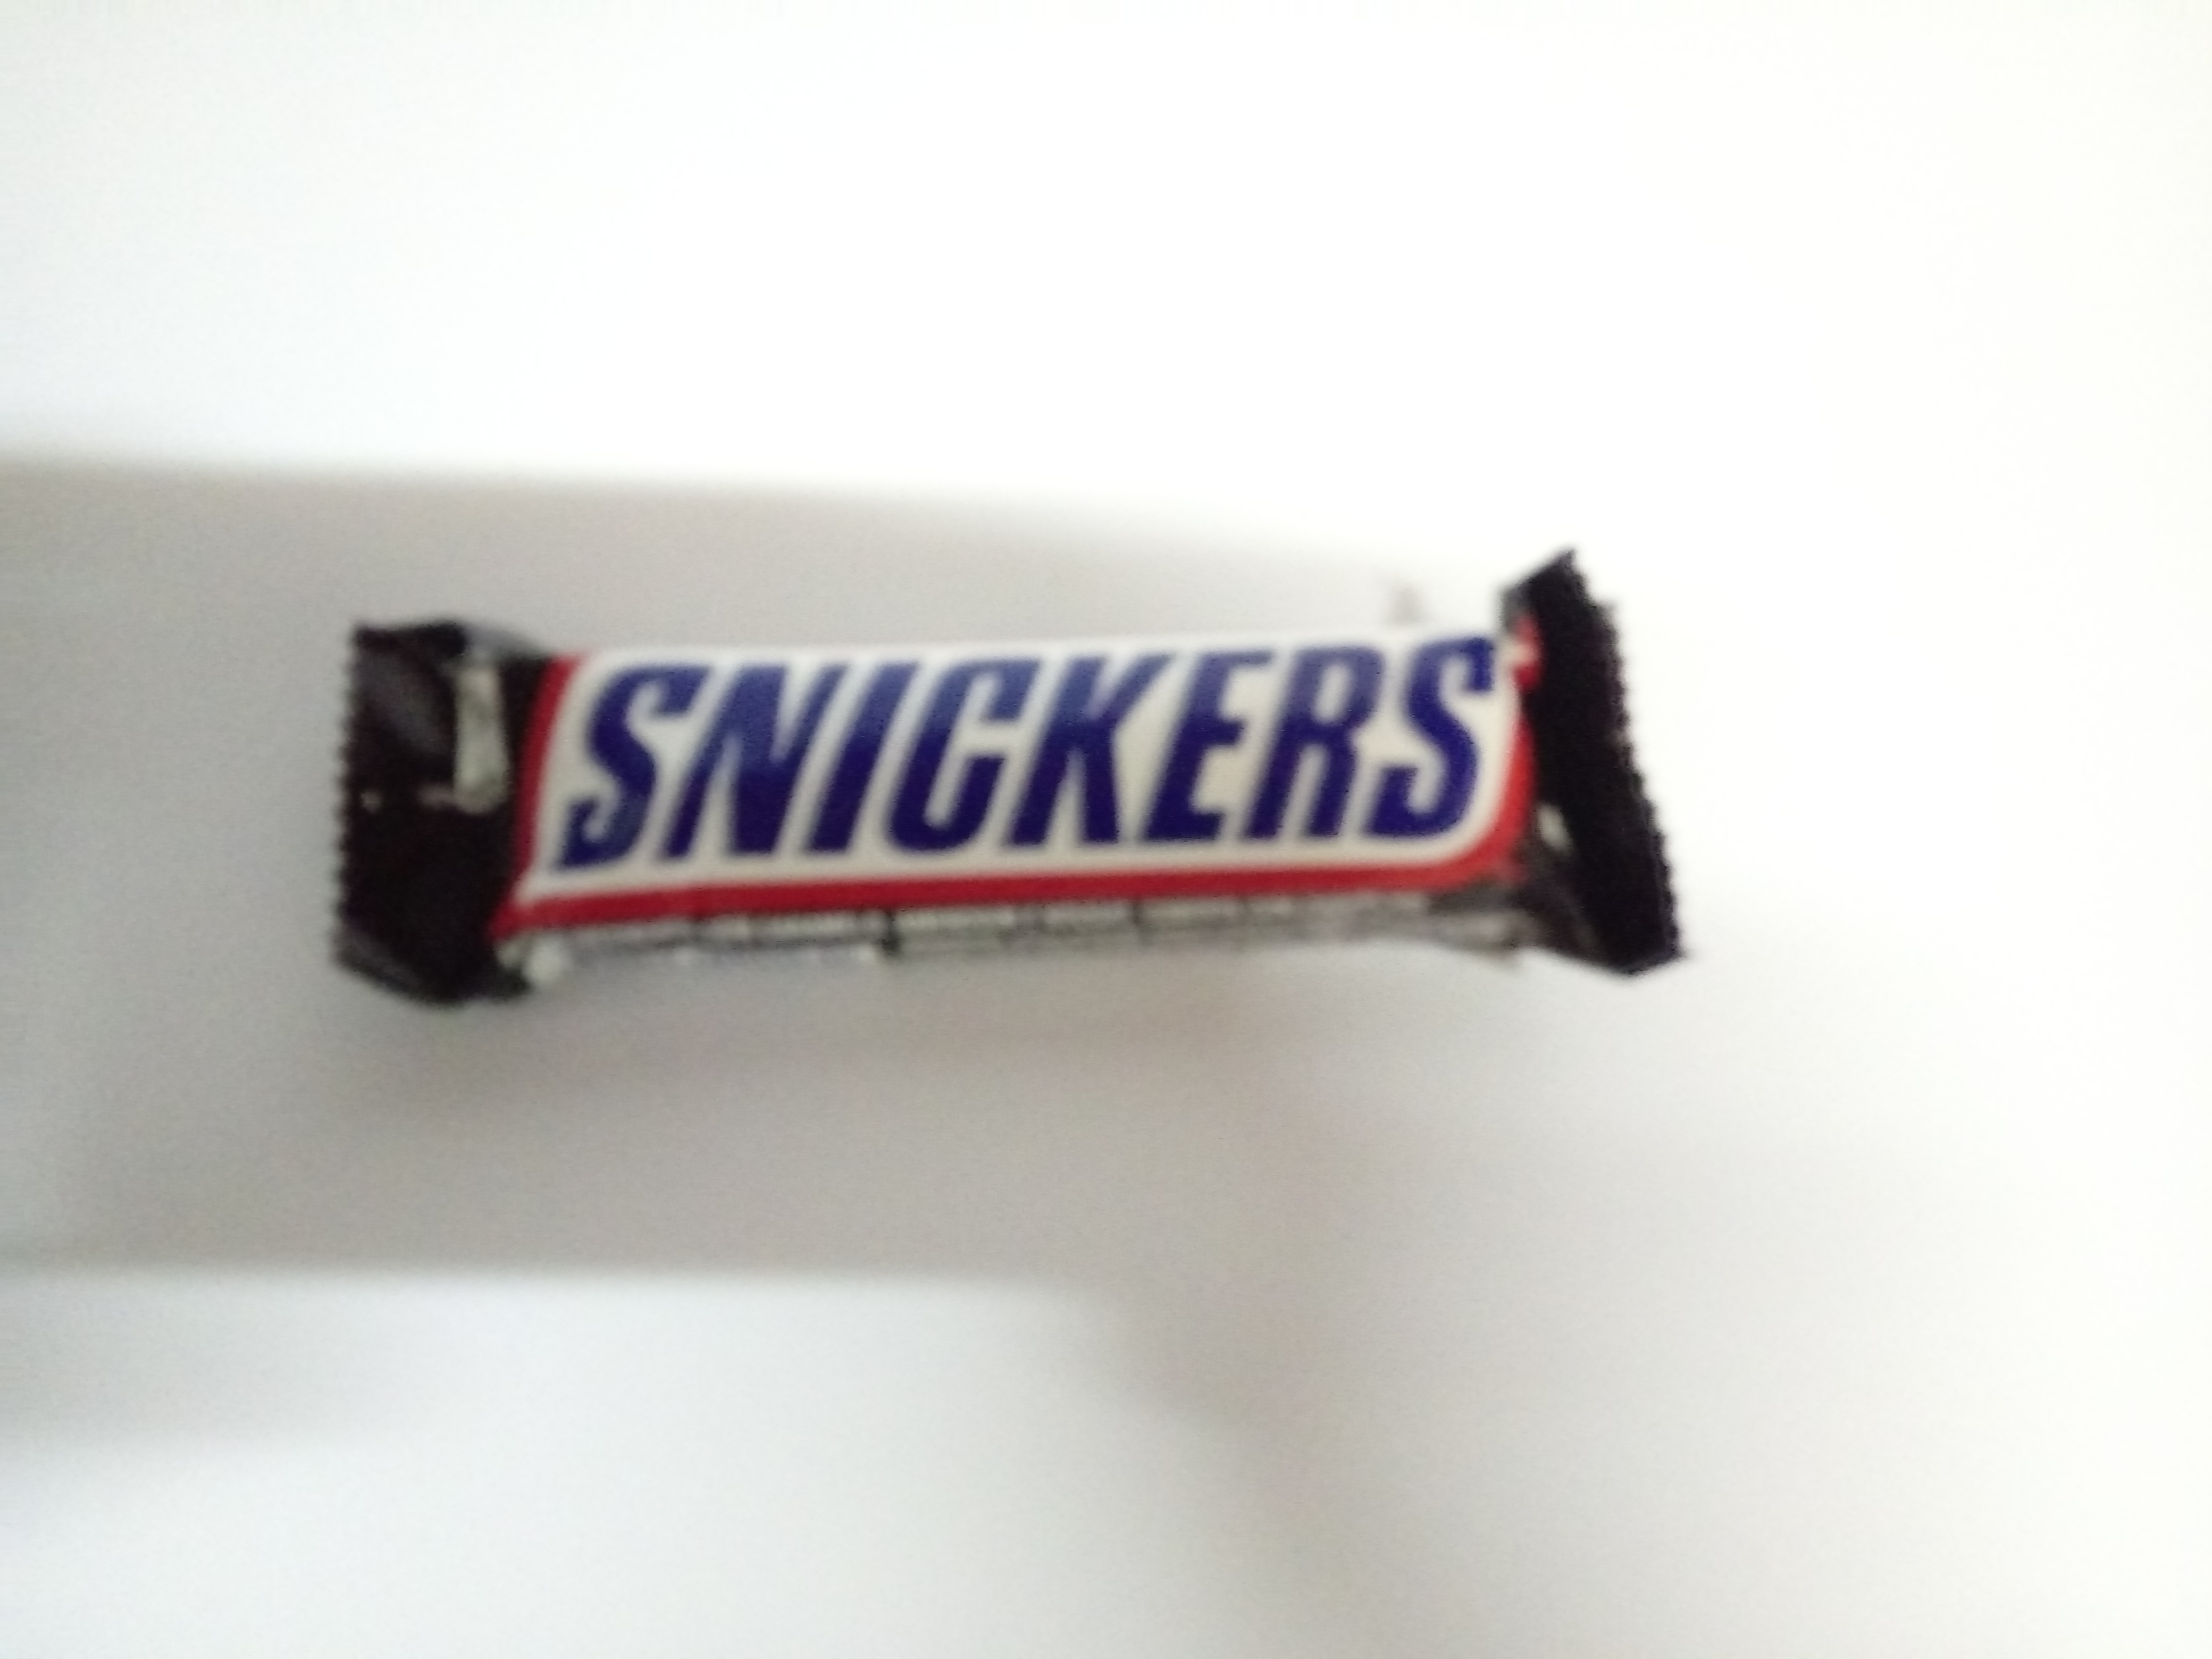snickers: (320, 535, 1721, 1019)
